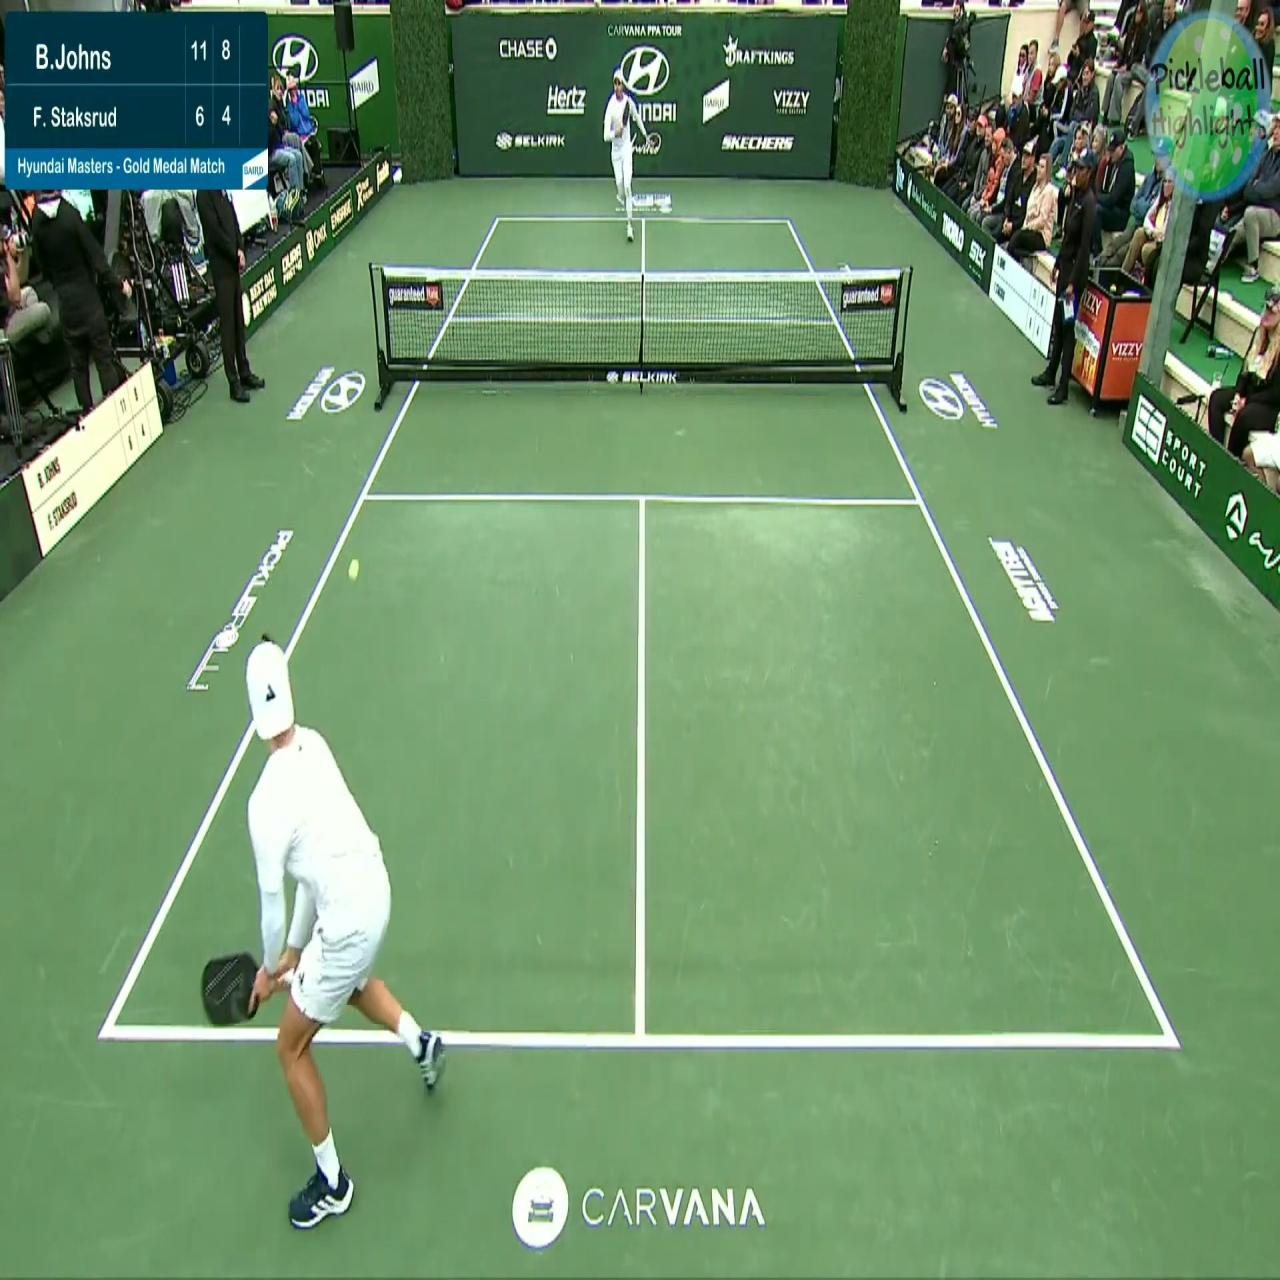pickleball: (348, 557, 360, 581)
